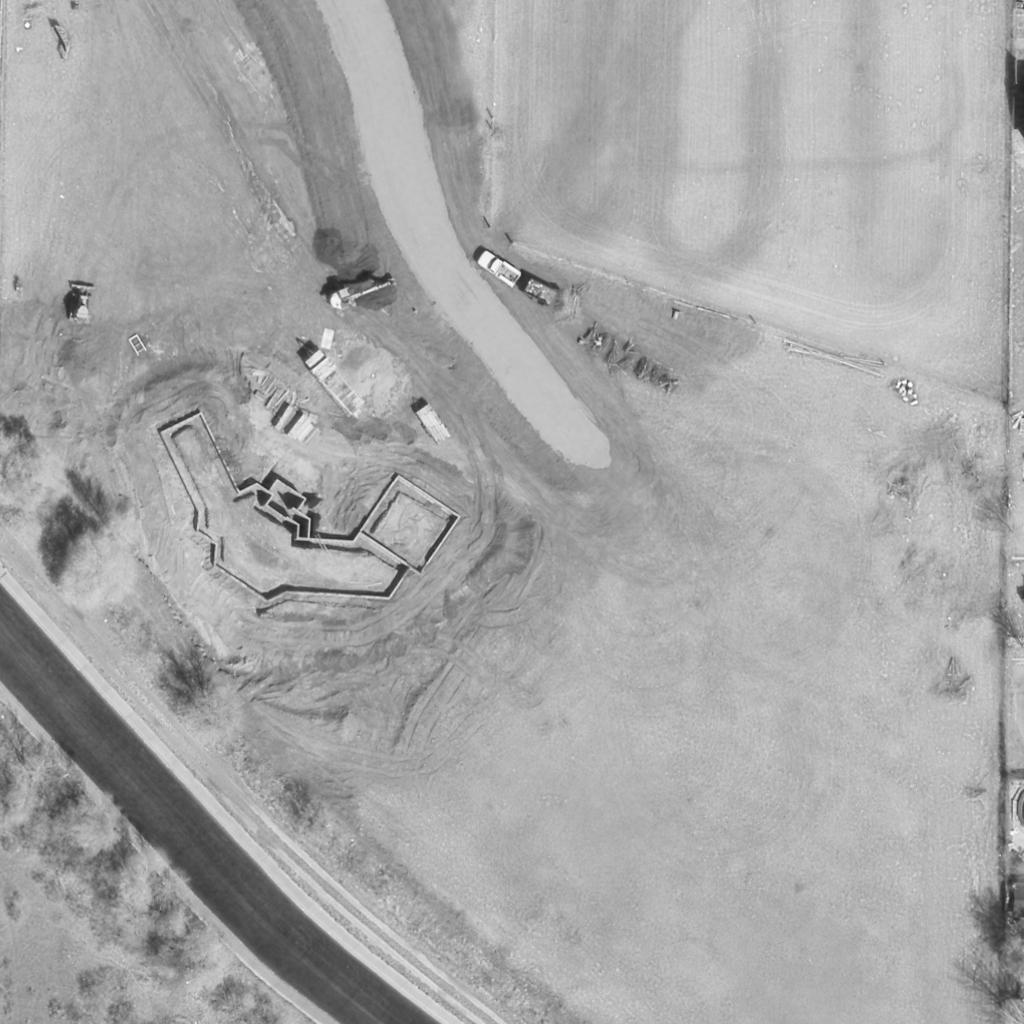vehicle: (326, 271, 406, 315), (475, 252, 523, 286), (68, 284, 98, 324)
